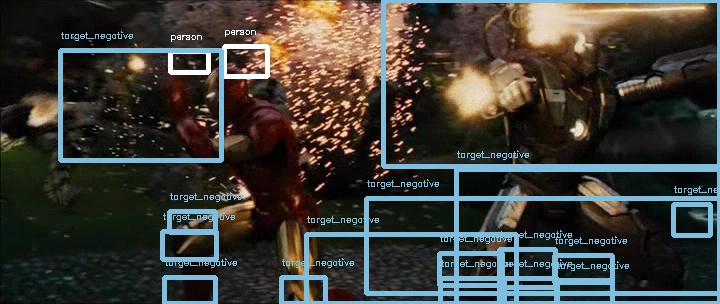person: (204, 64, 249, 108), (203, 64, 248, 108), (205, 64, 250, 108), (204, 63, 249, 107), (204, 65, 249, 109)
target_negative: (89, 55, 388, 200), (39, 266, 350, 303), (506, 238, 590, 275), (237, 231, 289, 245), (409, 291, 566, 294), (284, 269, 288, 291)
